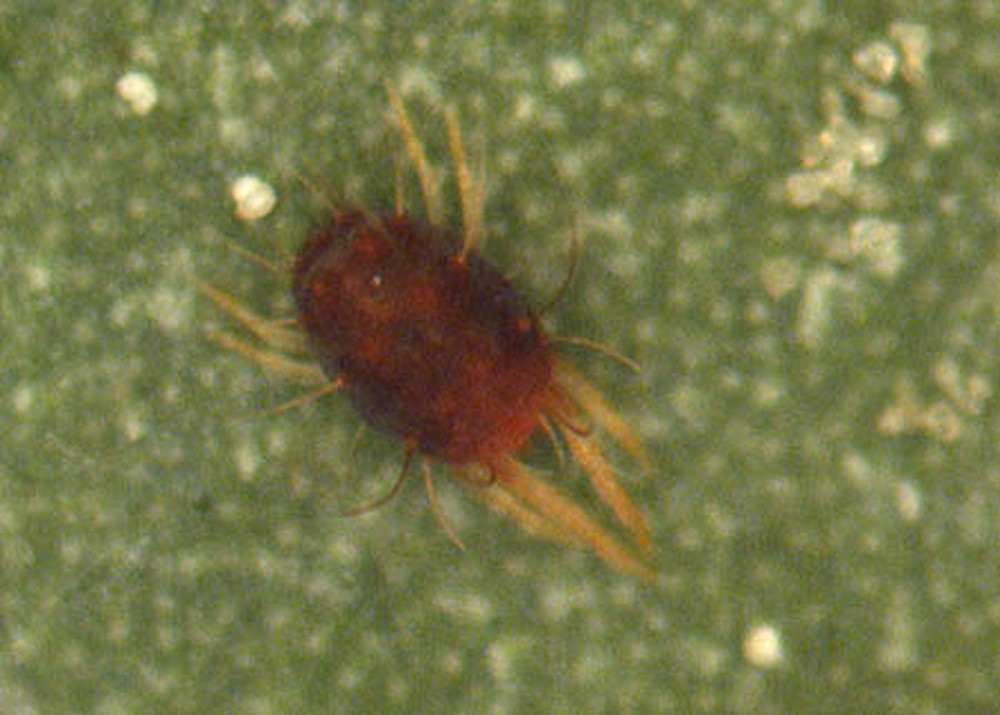Aracnido Rojo: (181, 78, 698, 615)
